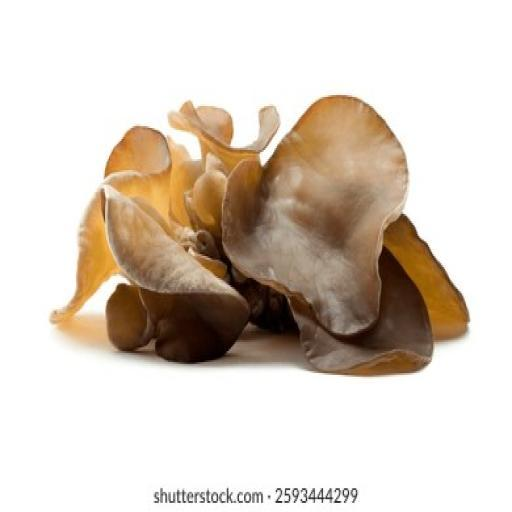mushroom: (42, 55, 479, 409)
